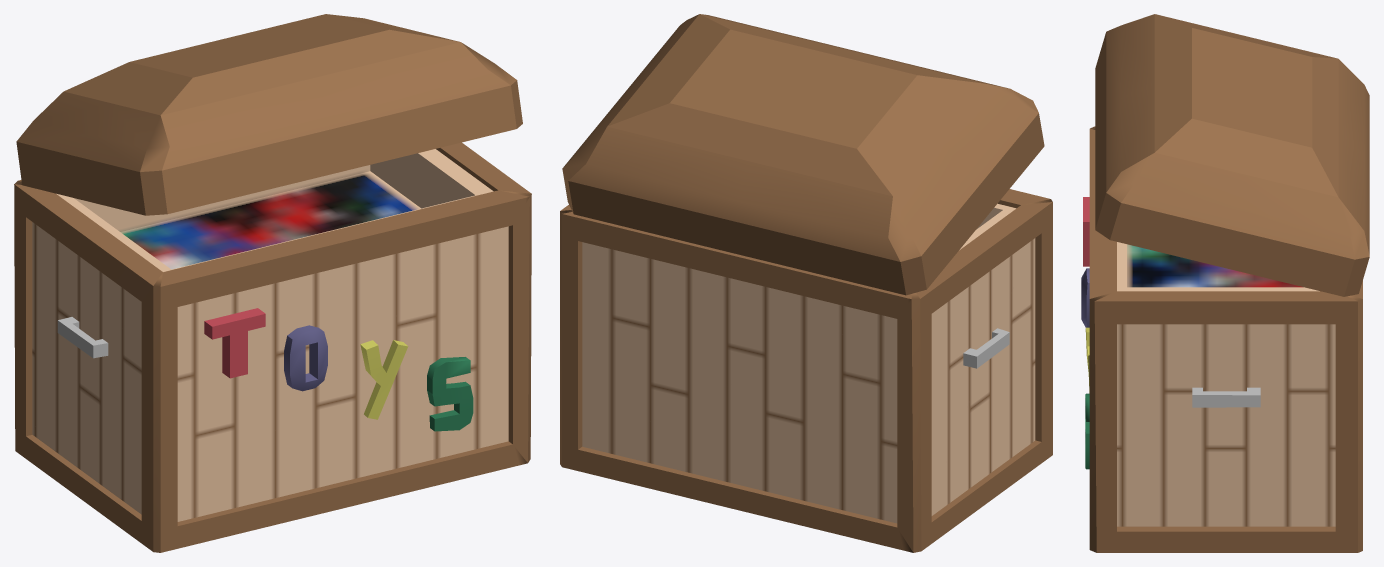
File: toy-box.glb
The picture shows the model from 3 angles, left to right: view 1: azimuth 30°, elevation 25°; view 2: azimuth 150°, elevation 25°; view 3: azimuth 270°, elevation 25°; orthographic projection. The views are drawn at different scales.
Parts seen in each view (by area): view 1: Object_2; view 2: Object_2; view 3: Object_2.
Part boxes in pixels (x1,y1,x2,y2): Object_2: (14, 14, 531, 552); Object_2: (560, 14, 1052, 552); Object_2: (1081, 14, 1369, 552).
Bounding box in the file's own units: 0.7084 × 0.7143 × 0.4762.
Materials: 1 (1 with a texture image).
